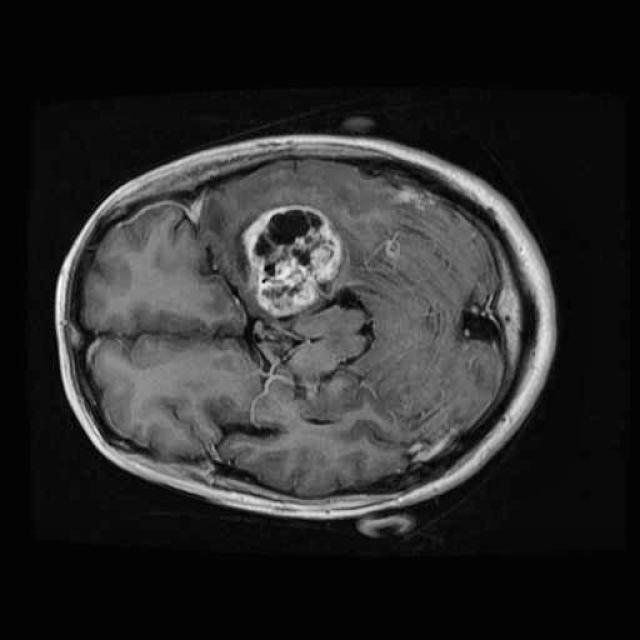Tumor: (230, 196, 354, 326)
